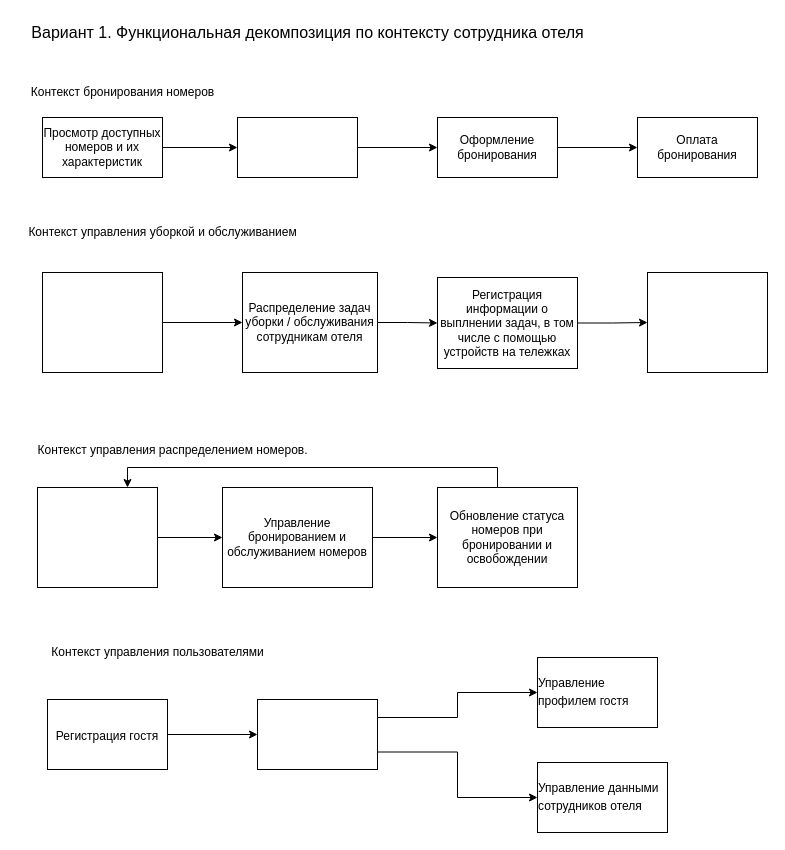
Image size: 785x850. Some labels were removed from this diagram. Here are the shapes that lost their labels. From the top down, the centre of each, then its label:
At pixel 297 147: "Выбор типа номера или конкретного номера".
At pixel 102 322: "Задание приоритетов для уборки / обслуживания".
At pixel 707 322: "Отслеживание состояния уборки".
At pixel 97 537: "Отображение статуса номеров (забронирован, доступен, готов к уборке и т.д.)".
At pixel 317 734: "Аутентификация и авторизация".
